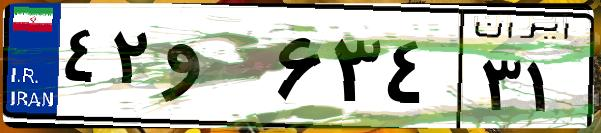1: (525, 38, 570, 115)
2: (110, 28, 158, 98)
3: (330, 28, 385, 110), (475, 38, 525, 113)
4: (385, 28, 445, 110), (57, 26, 110, 100)
6: (270, 28, 330, 110)
و: (158, 20, 270, 120)
